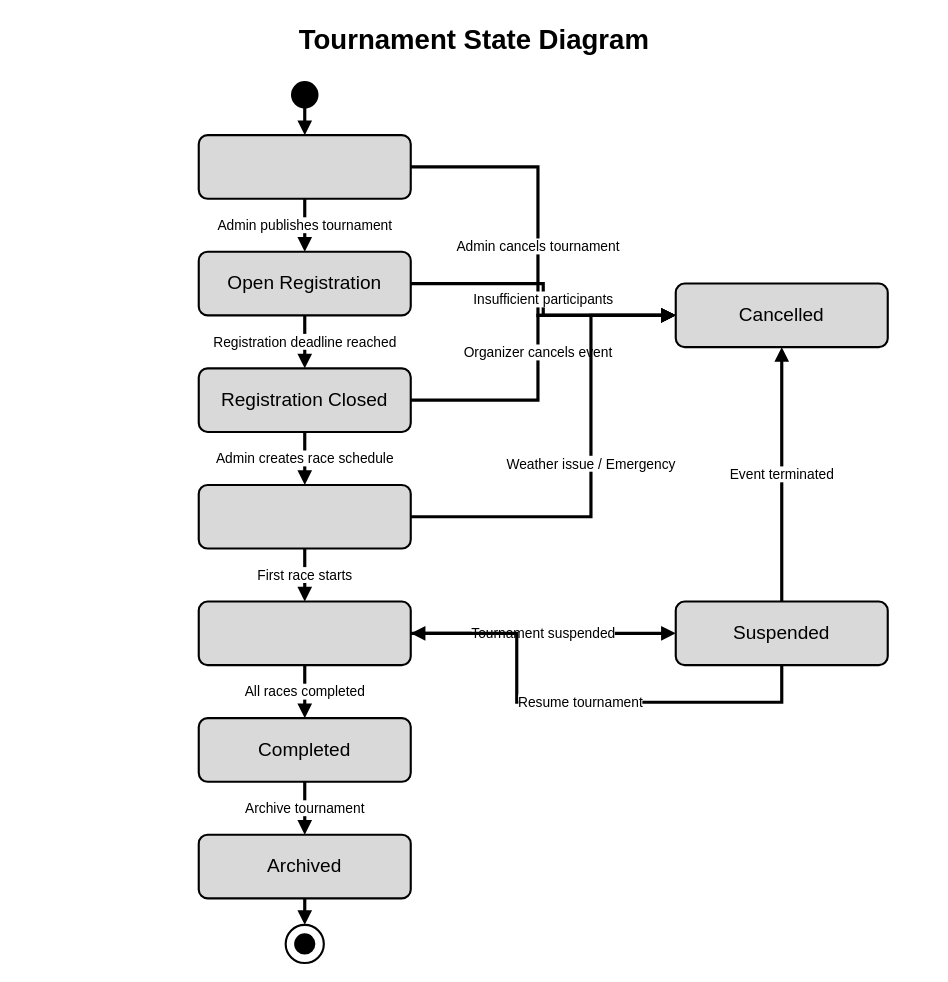
Image size: 948x982. Some labels were removed from this diagram. Here are the shapes that lost their labels. From the top down, the centre of each, then its label:
(304,166): Draft
(304,516): Scheduled
(304,633): Ongoing
